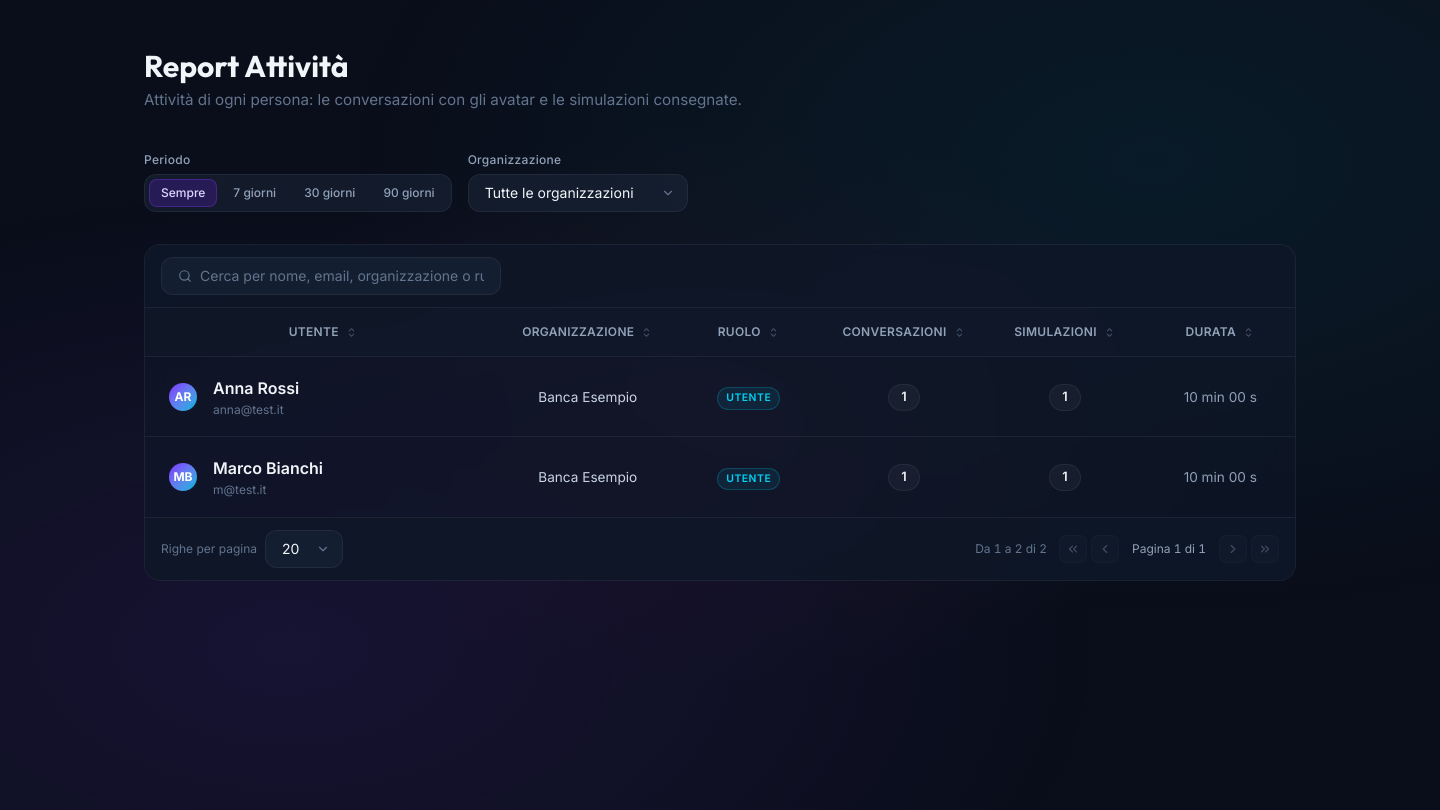
it: la riga di una persona › cerca per nome, email, organizzazione e ruolo
Type "bianchi" into the field with placeholder "Cerca per nome, email, organizzazione o ruolo...". click: (342, 276)
box: [200,258,484,294]
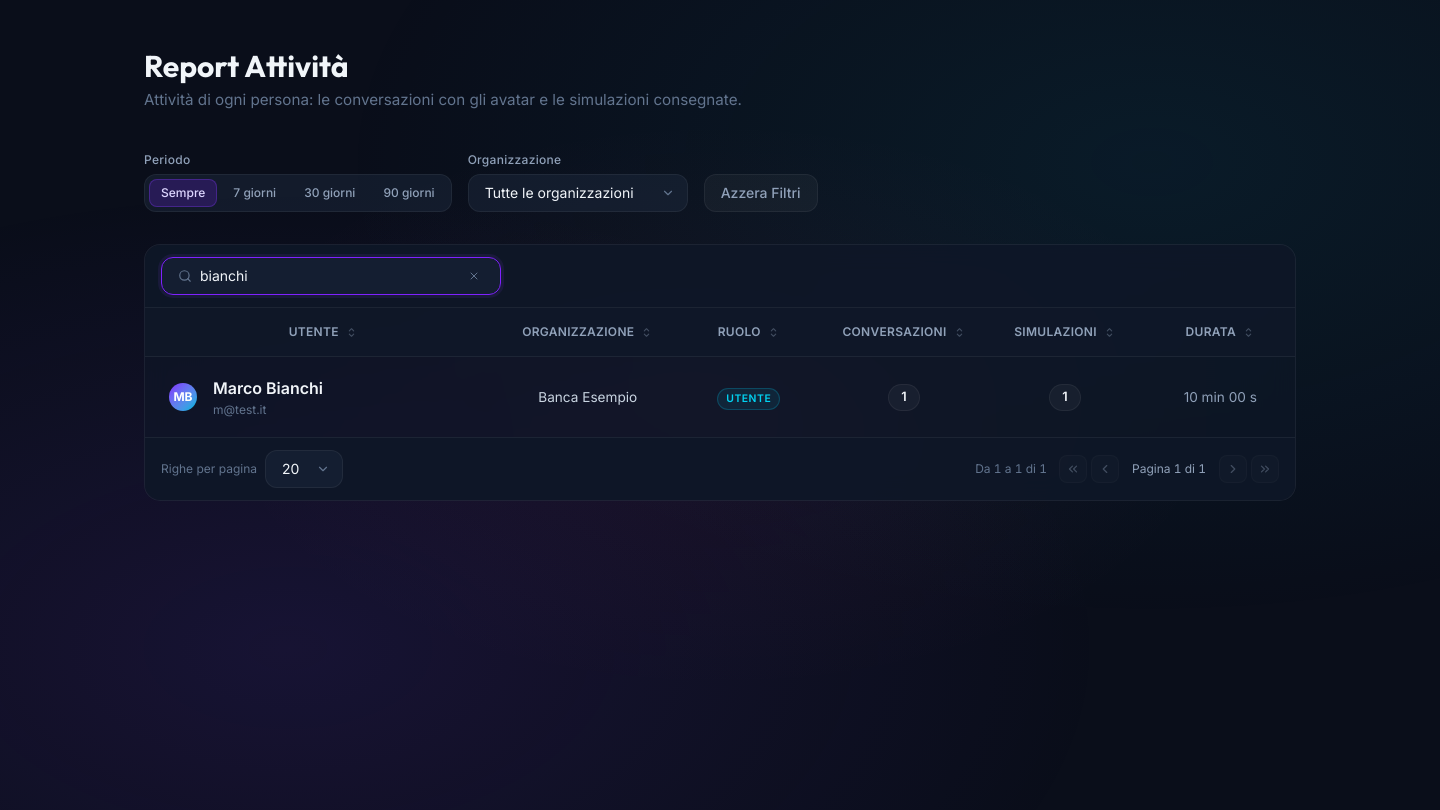
Expected: the text "Marco Bianchi" is shown, [213,376,323,402]
Expected: the text "Anna Rossi" is gone
